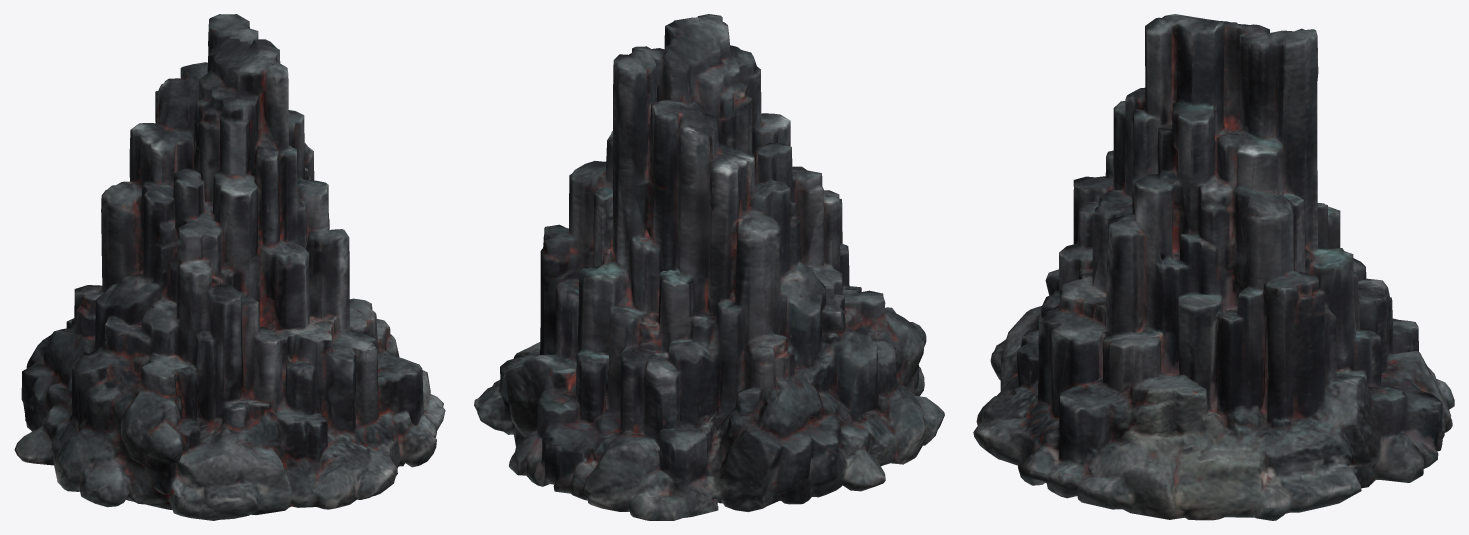
Rendered from rock_0.glb.
The picture shows the model from 3 angles, left to right: view 1: azimuth 30°, elevation 25°; view 2: azimuth 150°, elevation 25°; view 3: azimuth 270°, elevation 25°; orthographic projection. The views are drawn at different scales.
Parts seen in each view (by area): view 1: Mesh1.0; view 2: Mesh1.0; view 3: Mesh1.0.
Boxes of the visible parts, x1=… form: Mesh1.0: x1=14, y1=14, x2=445, y2=520; Mesh1.0: x1=474, y1=14, x2=944, y2=520; Mesh1.0: x1=973, y1=14, x2=1454, y2=520.
Bounding box in the file's own units: 1.89 × 1.84 × 1.91.
Materials: 1 (1 with a texture image).
